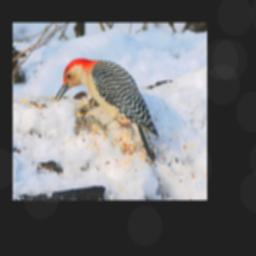Woodpecker: (54, 57, 161, 166)
